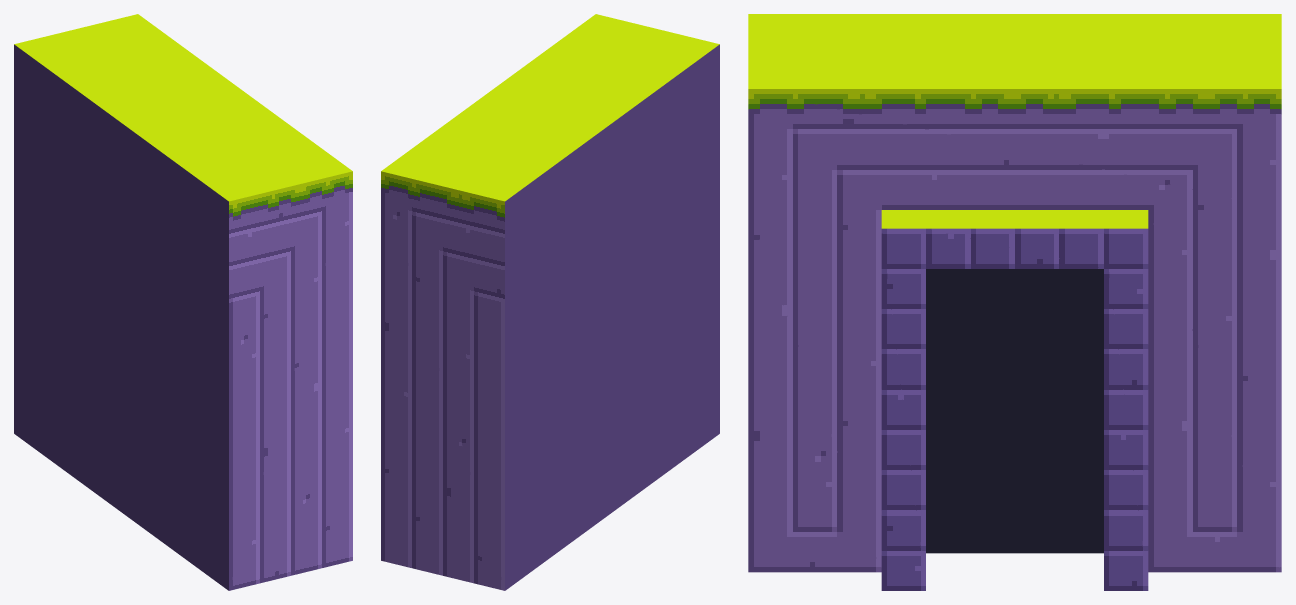
The model's file is zuon_legsao.fezao.glb.
3 renders of one model, left to right at view 1: azimuth 30°, elevation 25°; view 2: azimuth 150°, elevation 25°; view 3: azimuth 270°, elevation 25°, orthographic. The views are drawn at different scales.
Parts seen in each view (by area): view 1: ZUON_LEGSAO; view 2: ZUON_LEGSAO; view 3: ZUON_LEGSAO.
Boxes of the visible parts, x1,y1,x2,y2 form: ZUON_LEGSAO: (14,14,352,590); ZUON_LEGSAO: (381,14,719,590); ZUON_LEGSAO: (748,14,1281,590).
Bounding box in the file's own units: 2.5 × 6 × 6.
Materials: 1 (1 with a texture image).
